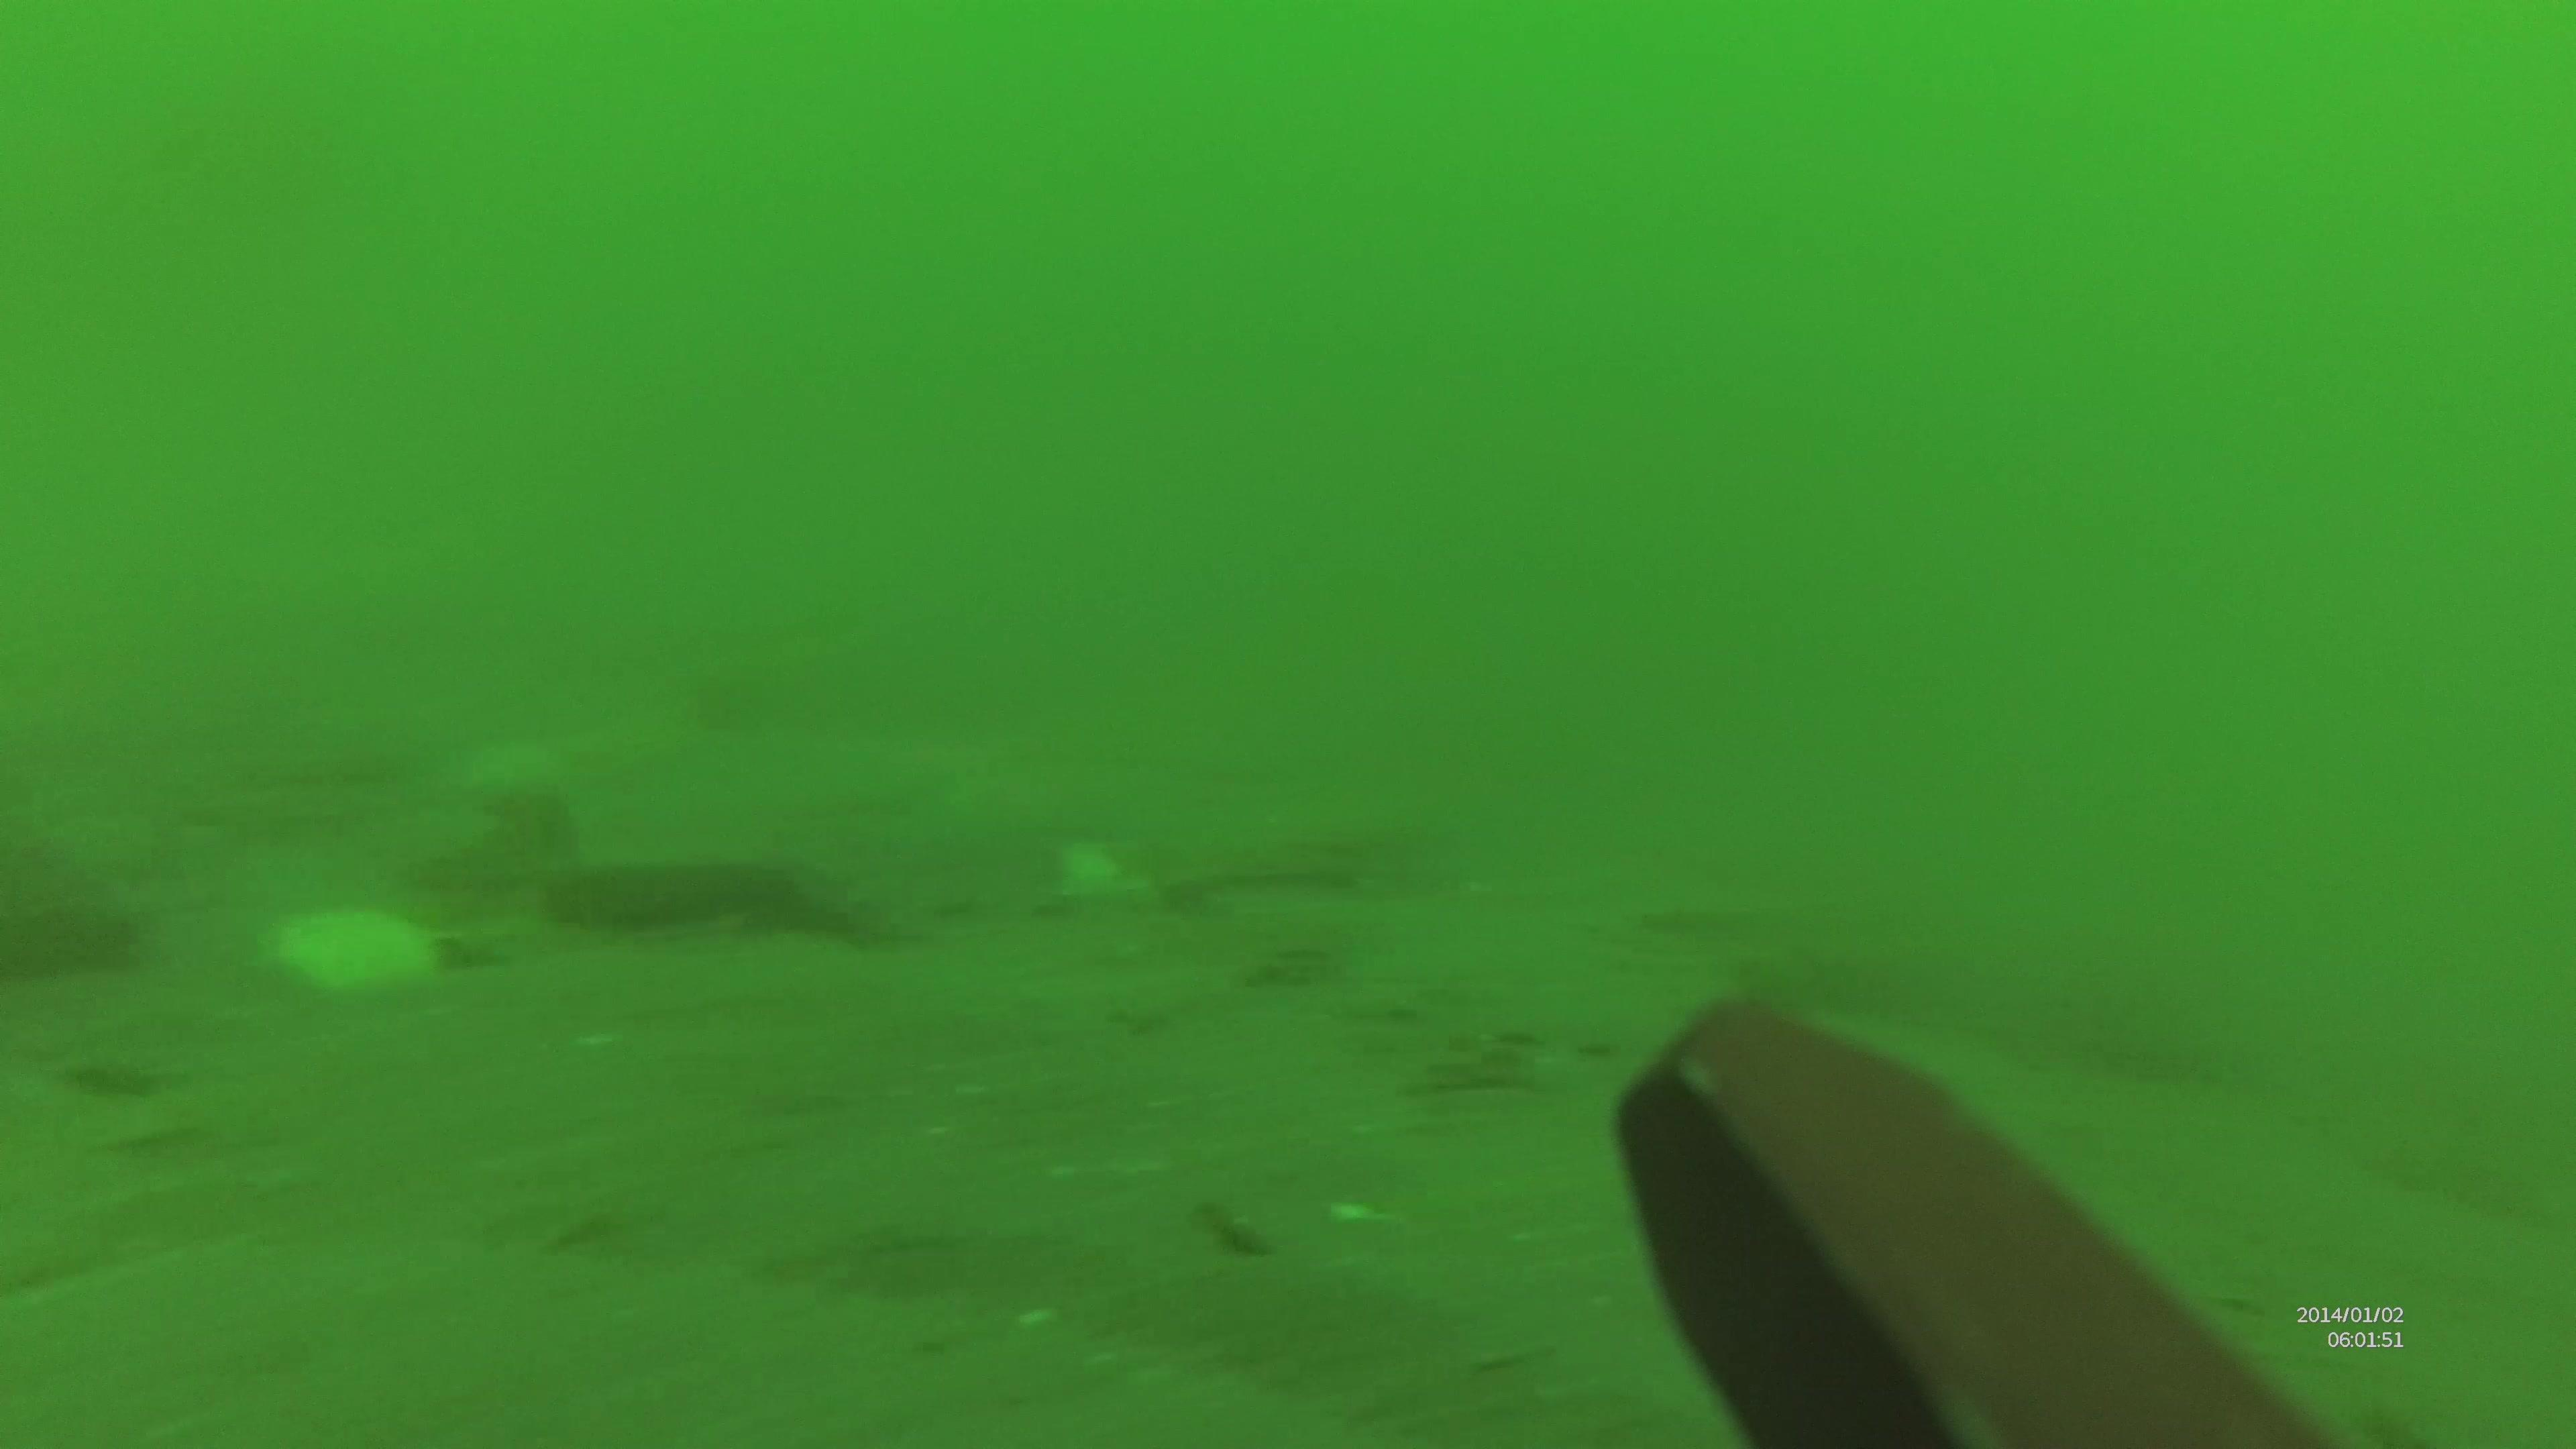scallop: (274, 909, 451, 993), (1044, 828, 1166, 911)
